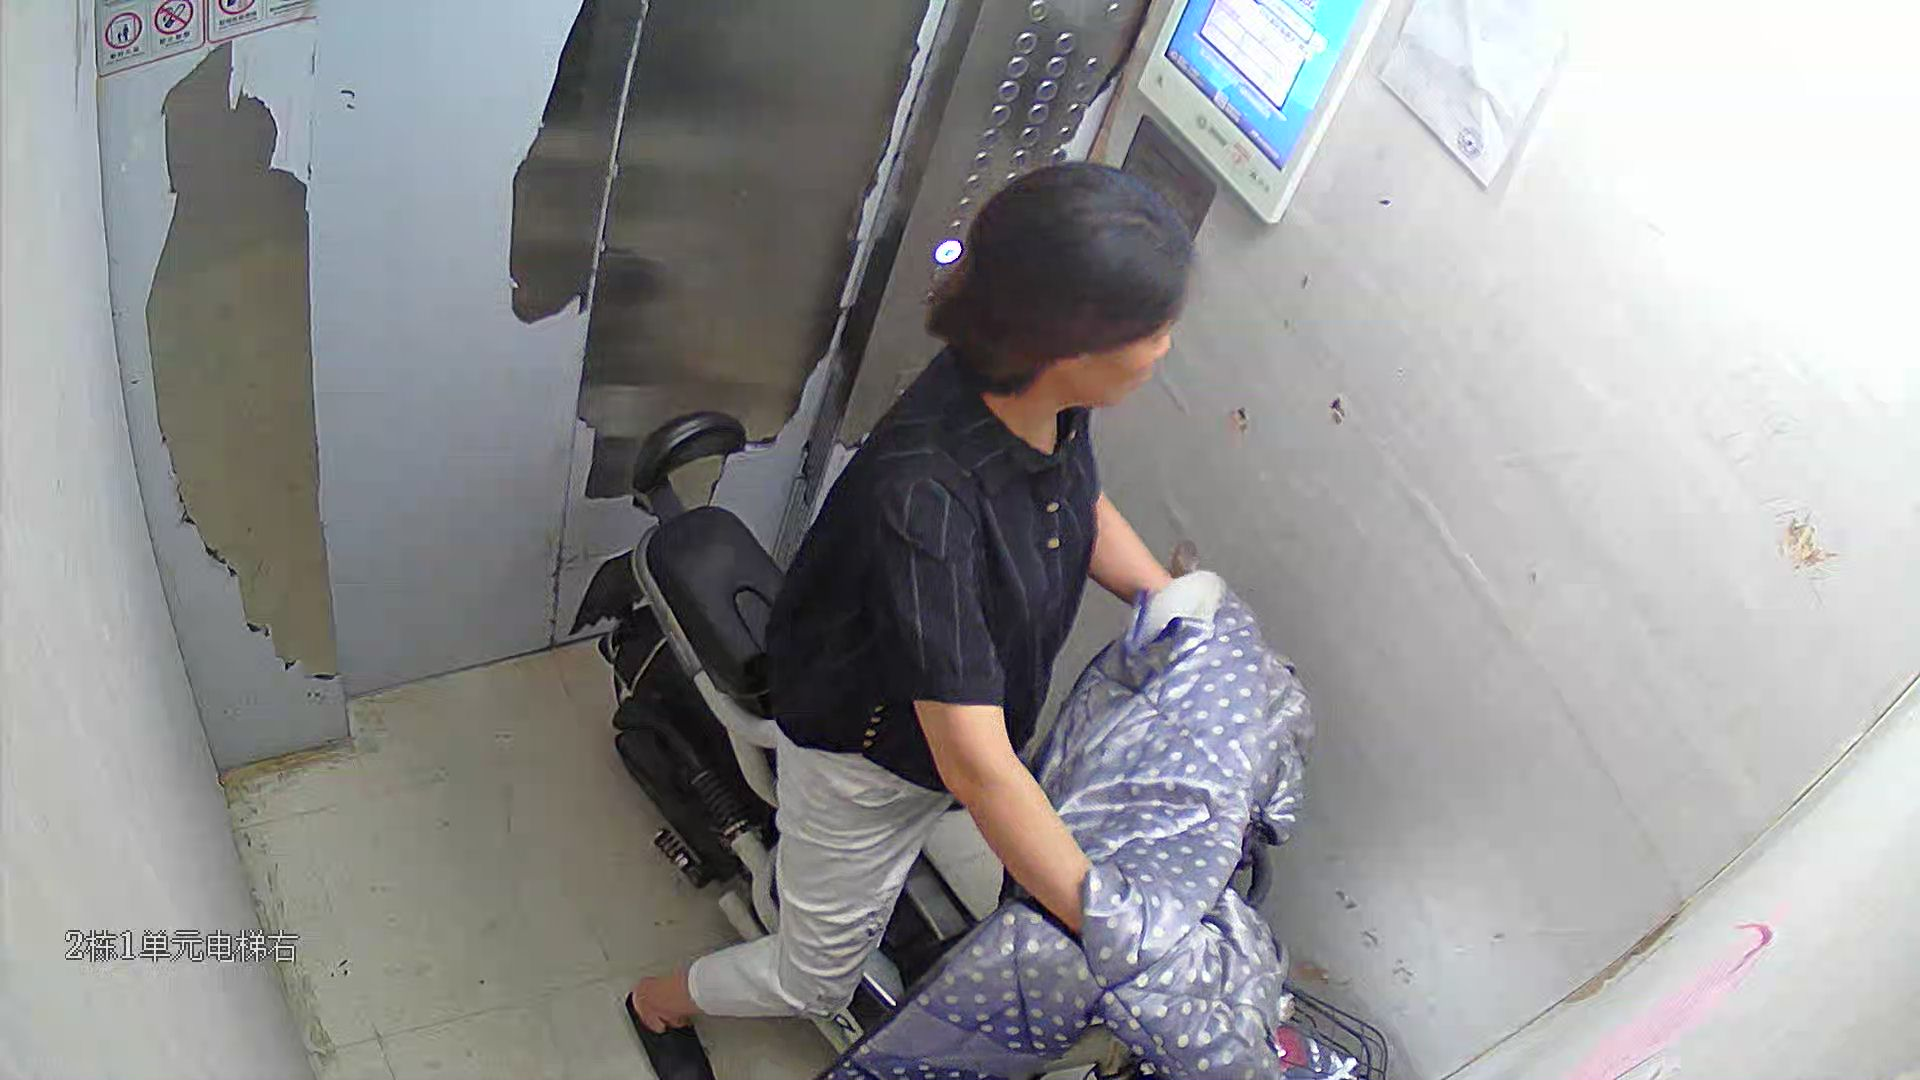Electric-bicycle: (615, 418, 1381, 1073)
